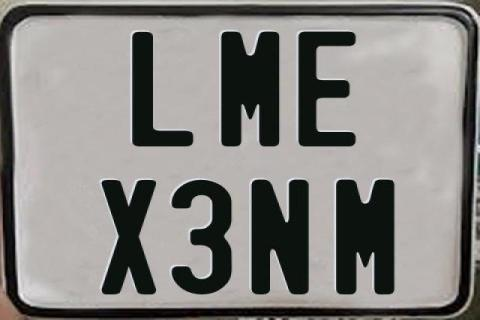0: (170, 178, 235, 294)
E: (298, 31, 356, 150)
L: (132, 30, 197, 150)
M: (334, 179, 398, 297), (218, 31, 276, 149)
N: (249, 179, 313, 297)
X: (101, 179, 161, 299)
